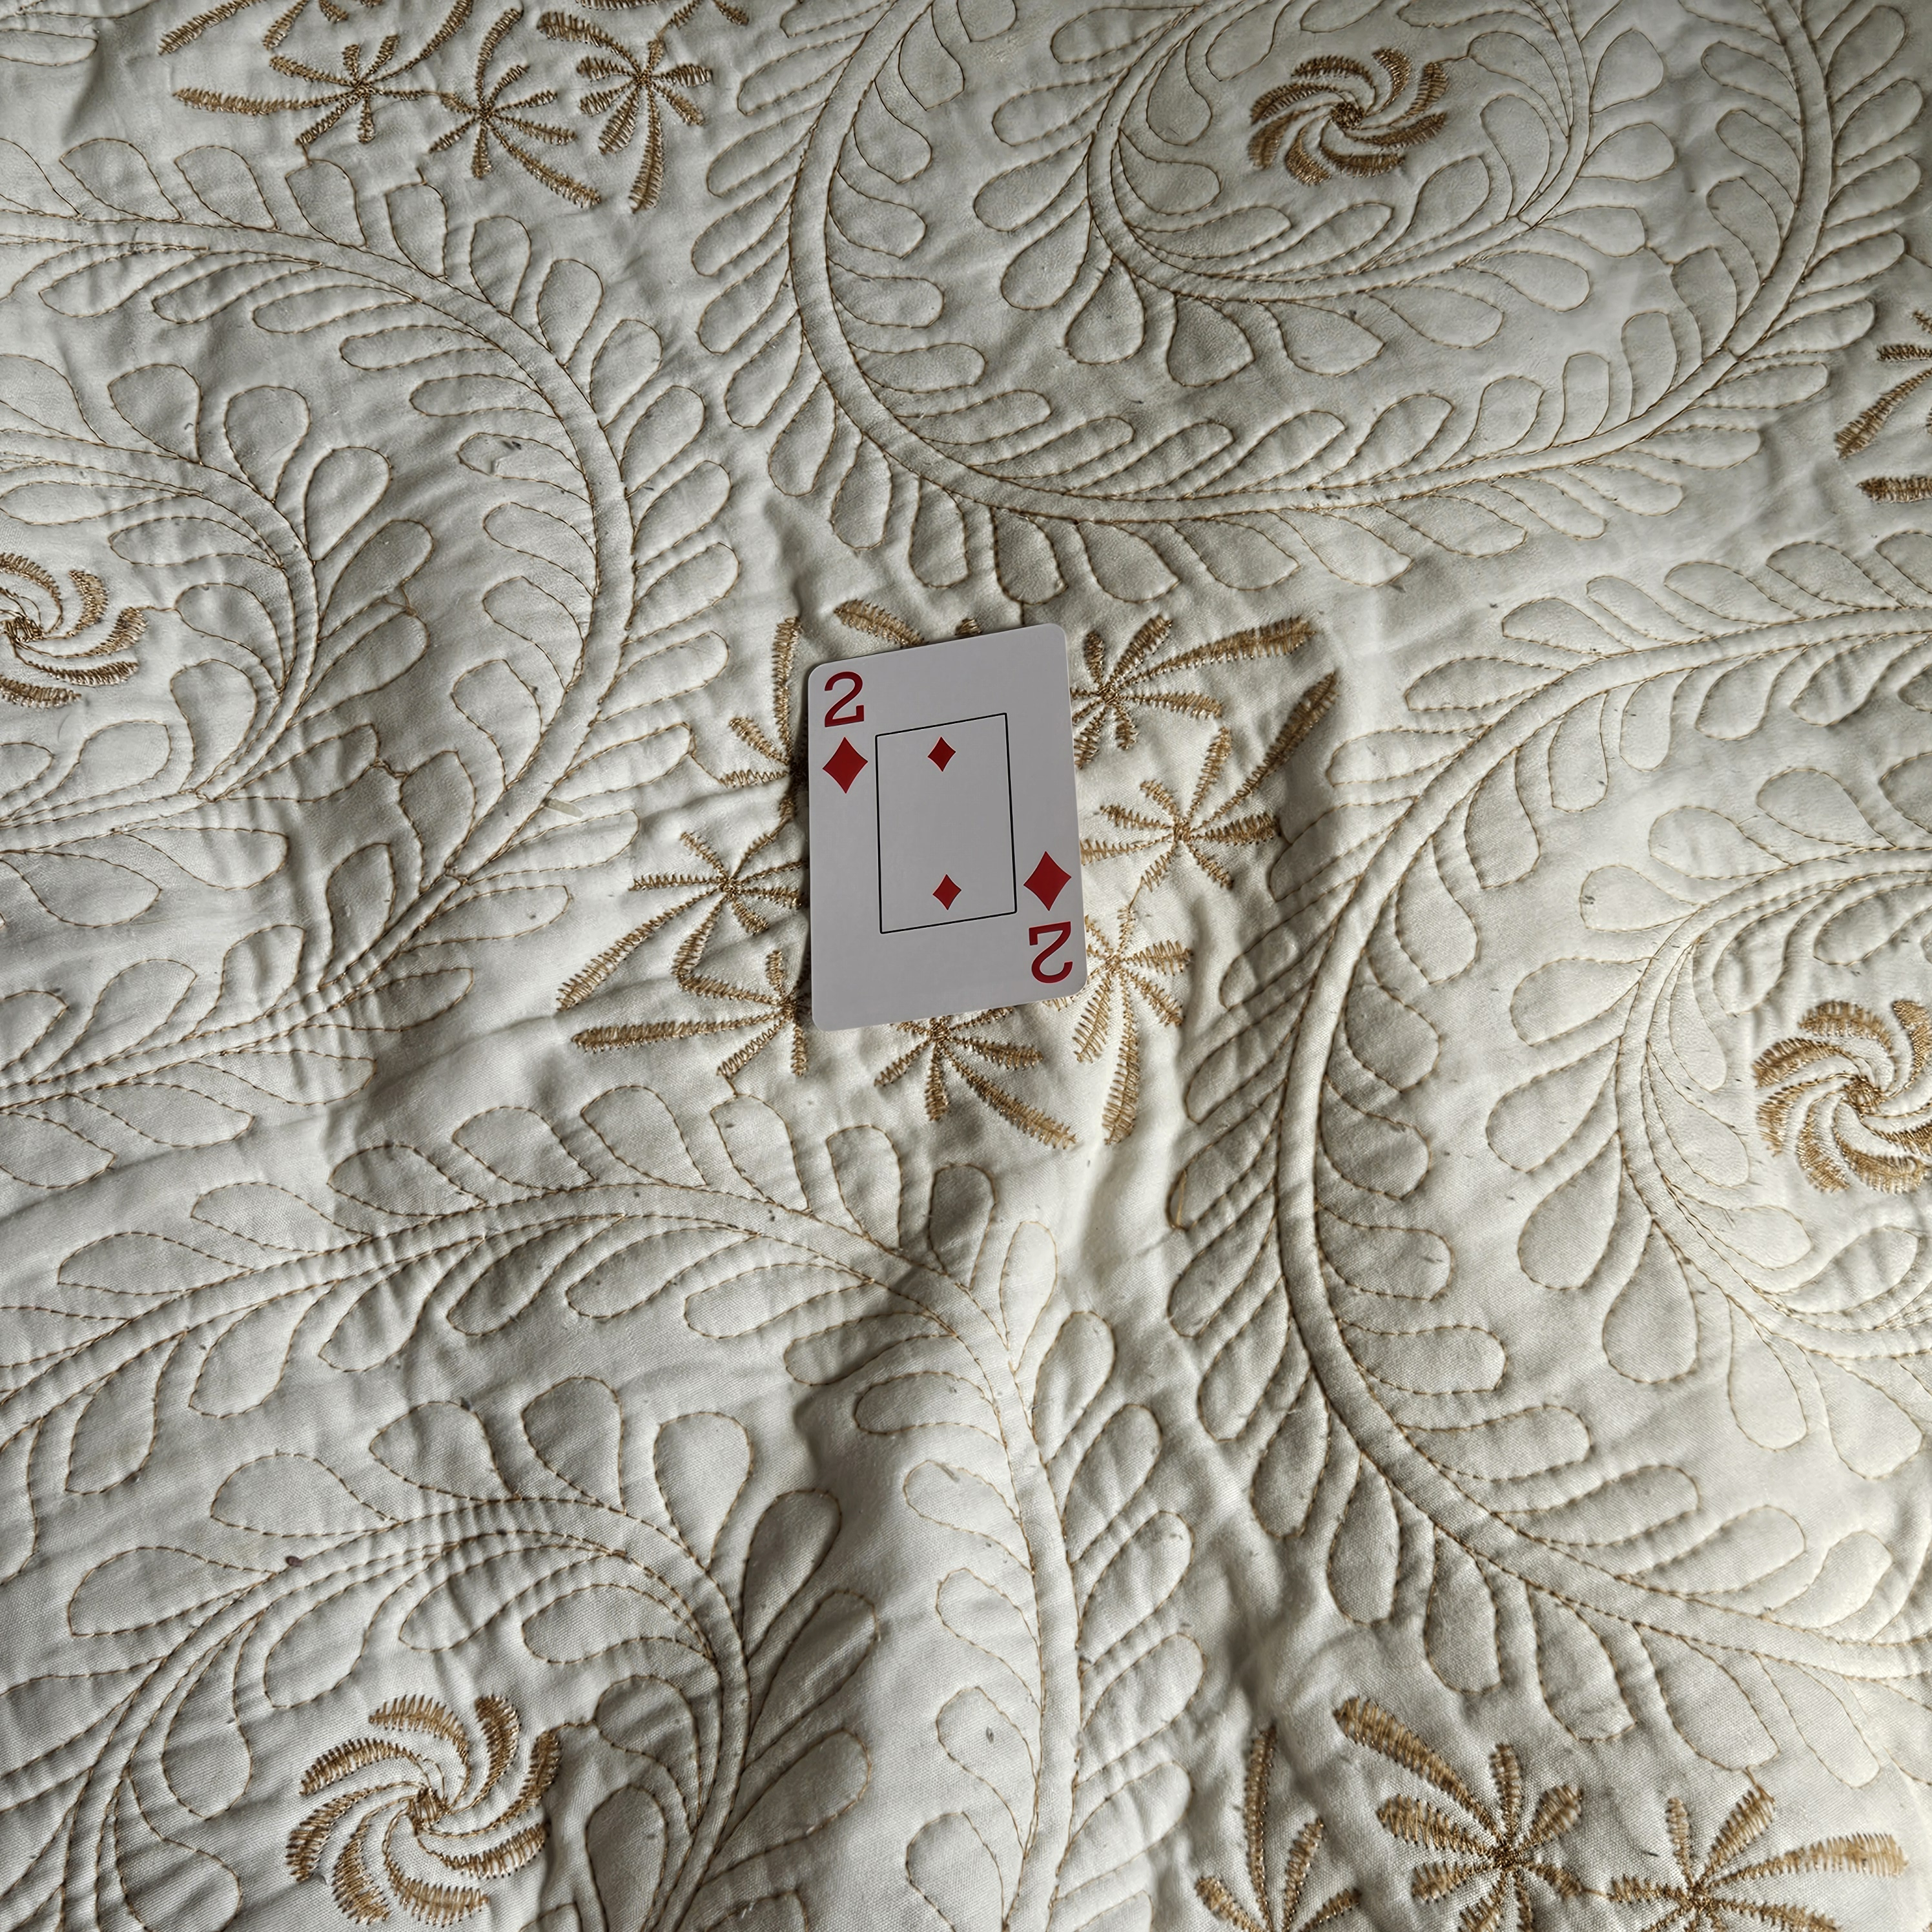2O: (805, 660, 885, 800), (1014, 842, 1085, 996)
